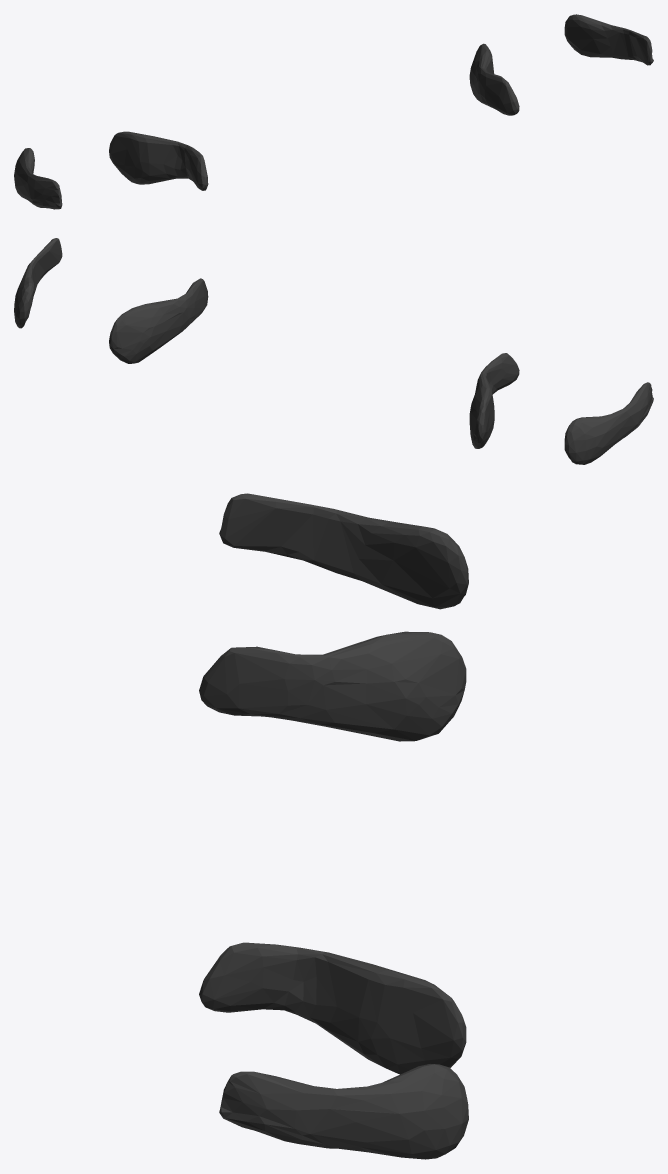
File: lig_collateral_sesamoid_fetlock_FL.glb
3 views of the same model, one above another, from view 1: azimuth 30°, elevation 25°; view 2: azimuth 150°, elevation 25°; view 3: azimuth 270°, elevation 25° (orthographic). The views are drawn at different scales.
Parts seen in each view (by area): view 1: lig_collateral_sesamoid_fetlock_FL; view 2: lig_collateral_sesamoid_fetlock_FL; view 3: lig_collateral_sesamoid_fetlock_FL.
Boxes of the visible parts, x1,y1,x2,y2 form: lig_collateral_sesamoid_fetlock_FL: [14, 14, 653, 209]; lig_collateral_sesamoid_fetlock_FL: [14, 238, 653, 464]; lig_collateral_sesamoid_fetlock_FL: [199, 493, 468, 1159].
Size of the model in its own units: 0.00428 by 0.000423 by 0.000825.
1 material, 1 textured.
